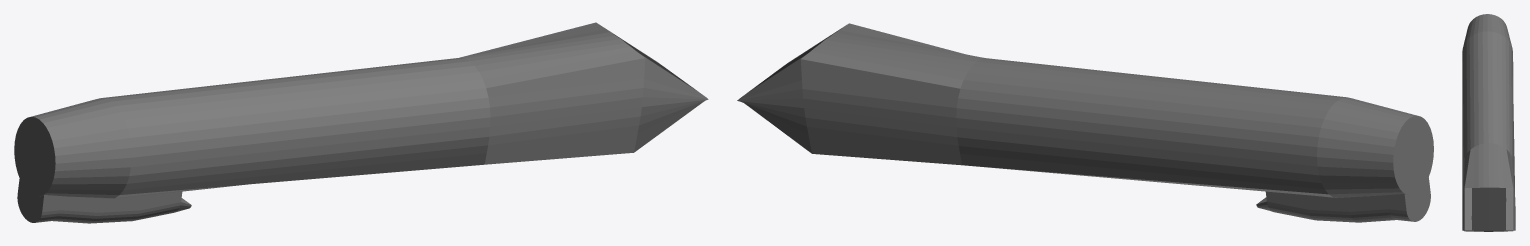
Rendered from a10caaq33.glb.
The picture shows the model from 3 angles, left to right: view 1: azimuth 30°, elevation 25°; view 2: azimuth 150°, elevation 25°; view 3: azimuth 270°, elevation 25°; orthographic projection. The views are drawn at different scales.
Visible parts, largest first — view 1: 円柱.036; view 2: 円柱.036; view 3: 円柱.036.
Part boxes in pixels (x1,y1,x2,y2): 円柱.036: [14, 22, 708, 223]; 円柱.036: [737, 23, 1433, 222]; 円柱.036: [1462, 14, 1515, 231].
Size of the model in its own units: 2.96 by 0.6789 by 0.4188.
1 material, 1 textured.
